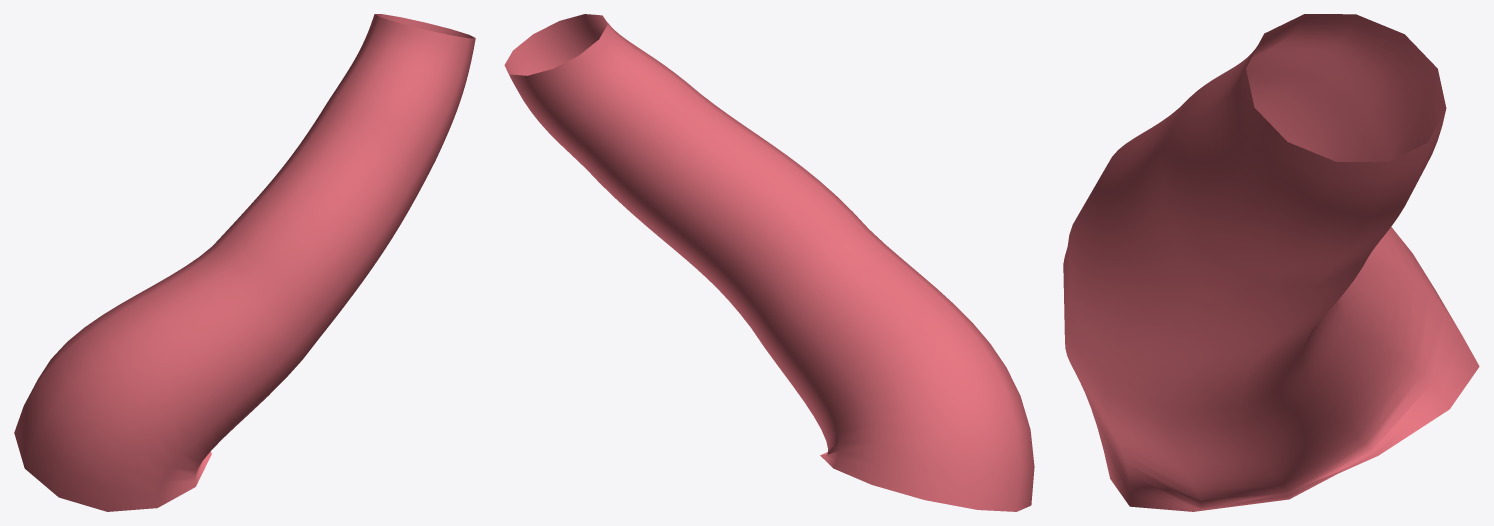
The picture shows the model from 3 angles, left to right: view 1: azimuth 30°, elevation 25°; view 2: azimuth 150°, elevation 25°; view 3: azimuth 270°, elevation 25°; orthographic projection. The views are drawn at different scales.
Parts seen in each view (by area): view 1: ZA_90413e5cba75420a; view 2: ZA_90413e5cba75420a; view 3: ZA_90413e5cba75420a.
Boxes of the visible parts, box(x1,y1,x2,y2) form: ZA_90413e5cba75420a: box(14, 14, 475, 511); ZA_90413e5cba75420a: box(504, 14, 1034, 511); ZA_90413e5cba75420a: box(1063, 14, 1479, 511).
Bounding box in the file's own units: 0.0552 × 0.044 × 0.0223.
